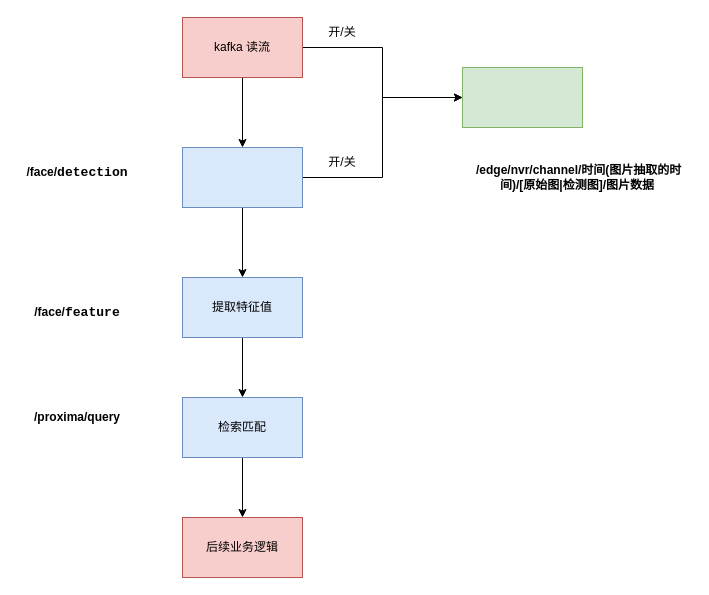
Some shapes in this 709 by 595 pixel diagram are drawn without their labels. The shapes that lost their labels are listed below. From the top down, each one's centre as x and y in pixels, then its label:
the point at 522,97: 对象存储
the point at 242,177: 人脸检测
